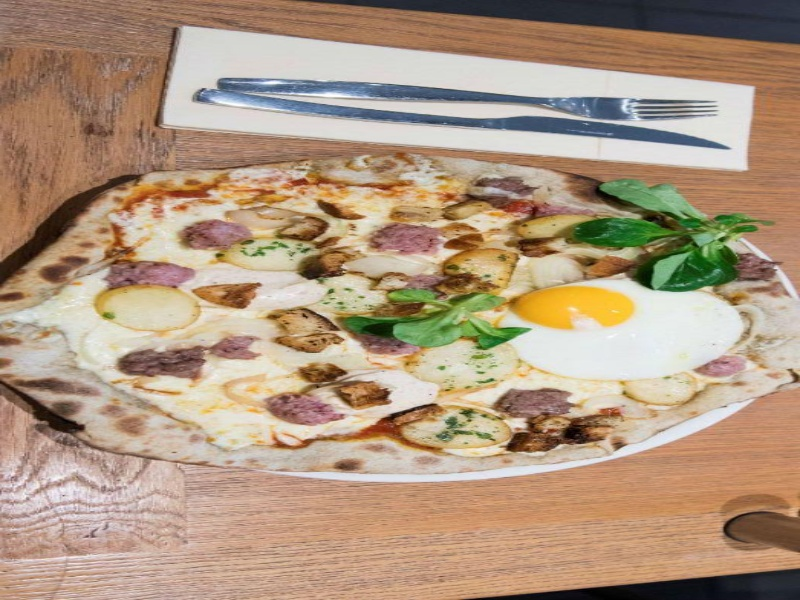oeuf: (498, 278, 685, 372)
